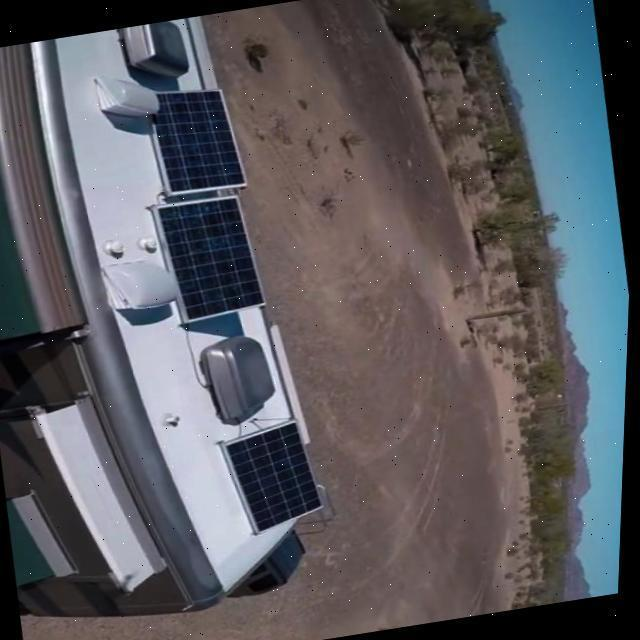Normal Solar Panel: (154, 190, 272, 324), (224, 418, 330, 536), (153, 79, 250, 194)
